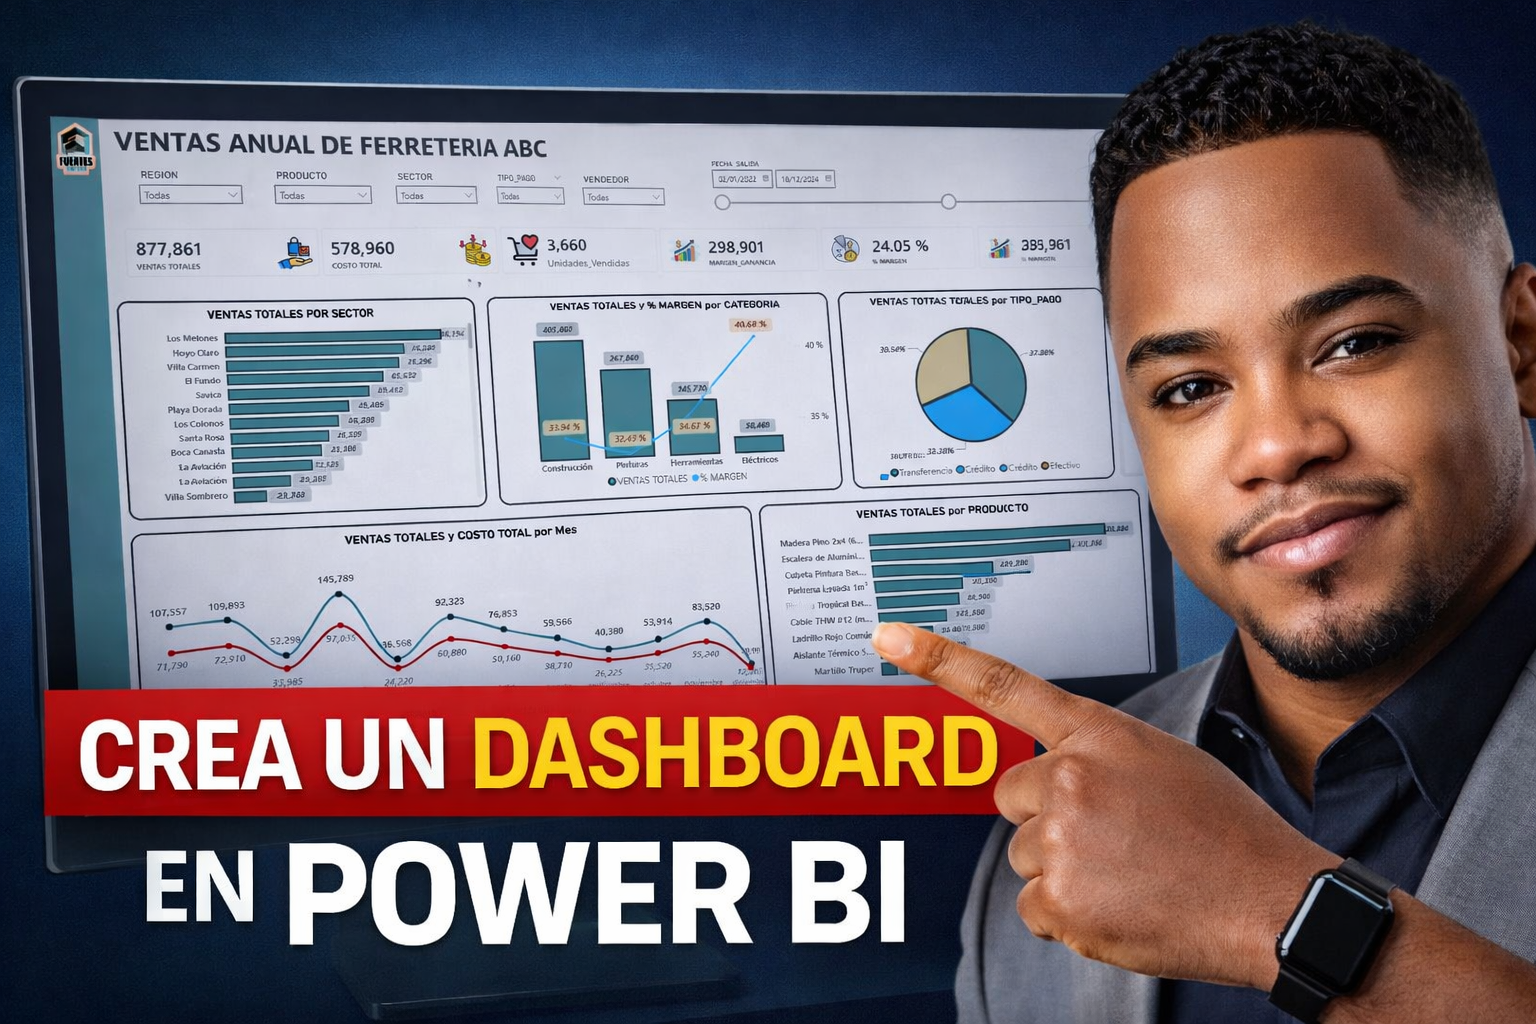

The page's visual inventory and layout, read from the dashboard file:
{"tool":"powerbi","page":{"name":"Inicio","canvas":[1500,900],"ordinal":0},"visuals":[{"type":"slicer","fields":{"Values":["DATA_FERRETERIA.PRODUCTO"]},"box":[323,78,152,65],"z":0},{"type":"slicer","fields":{"Values":["DATA_FERRETERIA.REGION"]},"box":[144,78,157,65],"z":1000},{"type":"cardVisual","fields":{"Data":["MEDIDAS_DAX.VENTAS TOTALES","MEDIDAS_DAX.COSTO TOTAL","MEDIDAS_DAX.Unidades_Vendidas","MEDIDAS_DAX.MARGEN_GANANCIA","MEDIDAS_DAX.% MARGEN"]},"box":[116,150,1374,106],"z":2000},{"type":"slicer","fields":{"Values":["DATA_FERRETERIA.SECTOR"]},"box":[488,78,152,65],"z":3000},{"type":"slicer","fields":{"Values":["DATA_FERRETERIA.TIPO_PAGO"]},"box":[653,78,152,65],"z":4000},{"type":"slicer","fields":{"Values":["DATA_FERRETERIA.VENDEDOR"]},"box":[821,78,152,65],"z":5000},{"type":"shape","box":[11.1,143.3,94.4,741.1],"z":6000},{"type":"lineChart","title":"VENTAS Y COSTO TOTAL POR MES","fields":{"Category":["DATA_FERRETERIA.FECHA_SALIDA.Variación.Jerarquía de fechas.Mes"],"Y":["MEDIDAS_DAX.VENTAS TOTALES","MEDIDAS_DAX.COSTO TOTAL"]},"box":[116,589,848,295],"z":7000},{"type":"clusteredBarChart","title":"VENTAS TOTALES POR SECTOR","fields":{"Category":["DATA_FERRETERIA.SECTOR"],"Y":["MEDIDAS_DAX.VENTAS TOTALES"]},"box":[116,274,477,294],"z":8000},{"type":"lineClusteredColumnComboChart","fields":{"Category":["DATA_FERRETERIA.CATEGORIA"],"Y":["MEDIDAS_DAX.VENTAS TOTALES"],"Y2":["MEDIDAS_DAX.% MARGEN"]},"box":[613.3,274.4,503.3,293.3],"z":9000},{"type":"pieChart","fields":{"Category":["DATA_FERRETERIA.TIPO_PAGO"],"Y":["MEDIDAS_DAX.VENTAS TOTALES"]},"box":[1124,274,366,294],"z":10000},{"type":"clusteredBarChart","fields":{"Category":["DATA_FERRETERIA.PRODUCTO"],"Y":["MEDIDAS_DAX.VENTAS TOTALES"]},"box":[973,589,517,295],"z":11000},{"type":"textbox","box":[116,7,754,62],"z":12000},{"type":"slicer","fields":{"Values":["DATA_FERRETERIA.FECHA_SALIDA"]},"box":[1022.2,65.6,307.8,87.8],"z":13000},{"type":"image","box":[13.3,228.9,85.6,52.2],"z":15000},{"type":"image","box":[1383.3,13.3,106.7,110],"z":15001},{"type":"image","box":[0,0,105.6,110],"z":15002},{"type":"image","box":[0,302.2,110,103.3],"z":15003},{"type":"image","box":[12.2,407.8,91.1,83.3],"z":15004},{"type":"image","box":[0,500,110,118.9],"z":15005}]}

Visuals, with their boxes on the page's 1500x900 design canvas (x1, y1, x2, y2). These are canvas units, not pixel positions in the 1536x1024 screenshot, which may show the page scaled, cropped or inside an application window:
slicer - DATA_FERRETERIA.PRODUCTO: bbox(323, 78, 475, 143)
slicer - DATA_FERRETERIA.REGION: bbox(144, 78, 301, 143)
cardVisual - MEDIDAS_DAX.VENTAS TOTALES x MEDIDAS_DAX.COSTO TOTAL: bbox(116, 150, 1490, 256)
slicer - DATA_FERRETERIA.SECTOR: bbox(488, 78, 640, 143)
slicer - DATA_FERRETERIA.TIPO_PAGO: bbox(653, 78, 805, 143)
slicer - DATA_FERRETERIA.VENDEDOR: bbox(821, 78, 973, 143)
shape: bbox(11, 143, 106, 884)
"VENTAS Y COSTO TOTAL POR MES" lineChart: bbox(116, 589, 964, 884)
"VENTAS TOTALES POR SECTOR" clusteredBarChart: bbox(116, 274, 593, 568)
lineClusteredColumnComboChart - DATA_FERRETERIA.CATEGORIA x MEDIDAS_DAX.VENTAS TOTALES: bbox(613, 274, 1117, 568)
pieChart - DATA_FERRETERIA.TIPO_PAGO x MEDIDAS_DAX.VENTAS TOTALES: bbox(1124, 274, 1490, 568)
clusteredBarChart - DATA_FERRETERIA.PRODUCTO x MEDIDAS_DAX.VENTAS TOTALES: bbox(973, 589, 1490, 884)
textbox: bbox(116, 7, 870, 69)
slicer - DATA_FERRETERIA.FECHA_SALIDA: bbox(1022, 66, 1330, 153)
image: bbox(13, 229, 99, 281)
image: bbox(1383, 13, 1490, 123)
image: bbox(0, 0, 106, 110)
image: bbox(0, 302, 110, 406)
image: bbox(12, 408, 103, 491)
image: bbox(0, 500, 110, 619)
